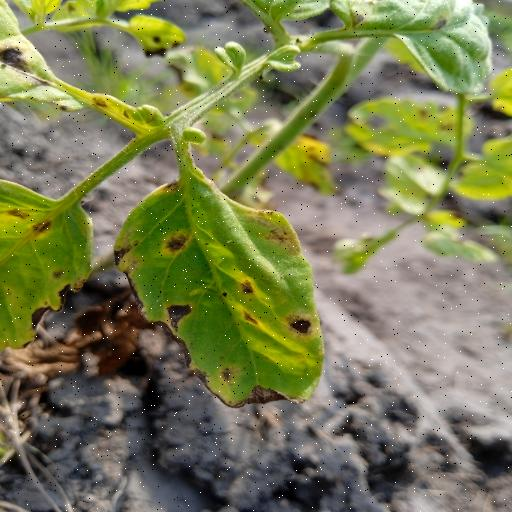Tomato_Brown_Spots: (109, 158, 333, 410), (0, 174, 102, 354)
